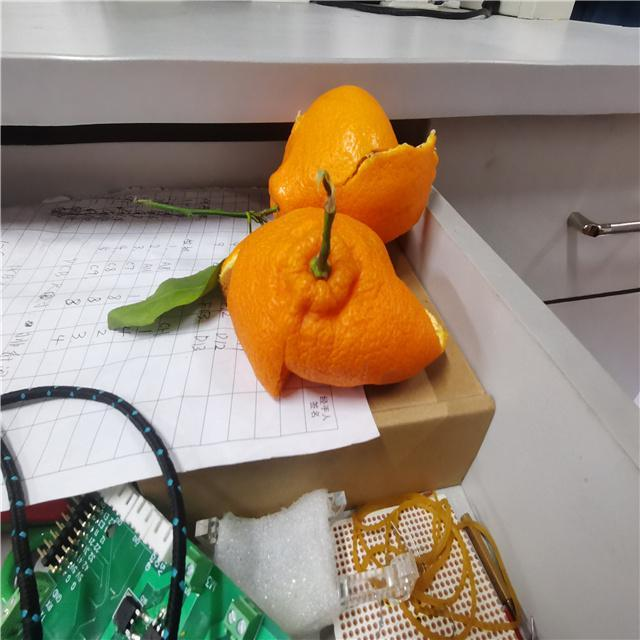orange-peel: (105, 165, 456, 404), (131, 81, 440, 242)
